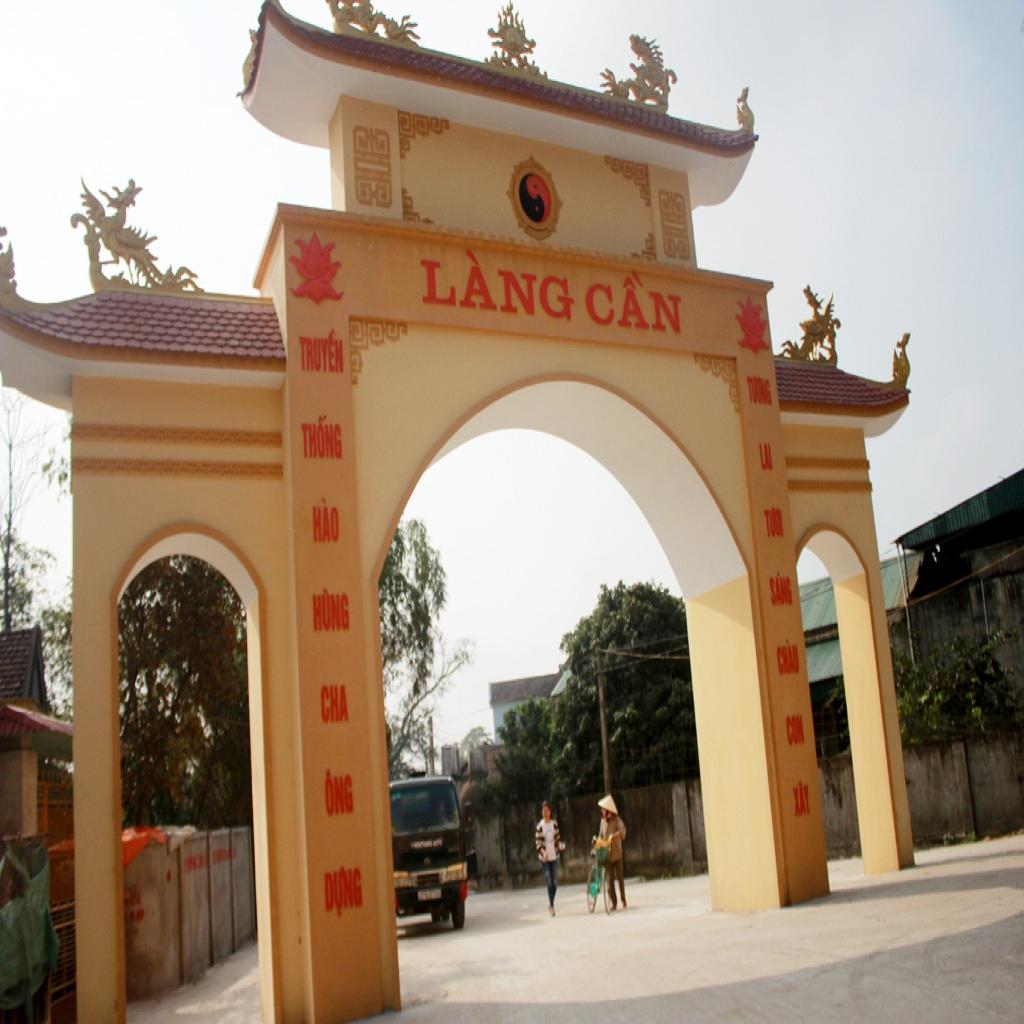text: (418, 243, 577, 324), (585, 264, 684, 336), (323, 864, 365, 922), (297, 325, 345, 375), (299, 414, 345, 460), (313, 586, 351, 633), (324, 768, 355, 818), (312, 496, 341, 544), (321, 685, 351, 726), (776, 634, 802, 676), (746, 373, 775, 408), (768, 570, 795, 607), (784, 712, 808, 748), (791, 778, 812, 819), (763, 505, 786, 540), (758, 442, 775, 471)
